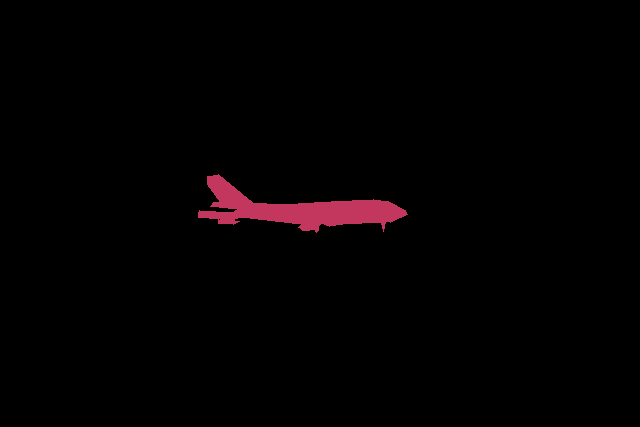Airplane: (198, 174, 407, 232)
